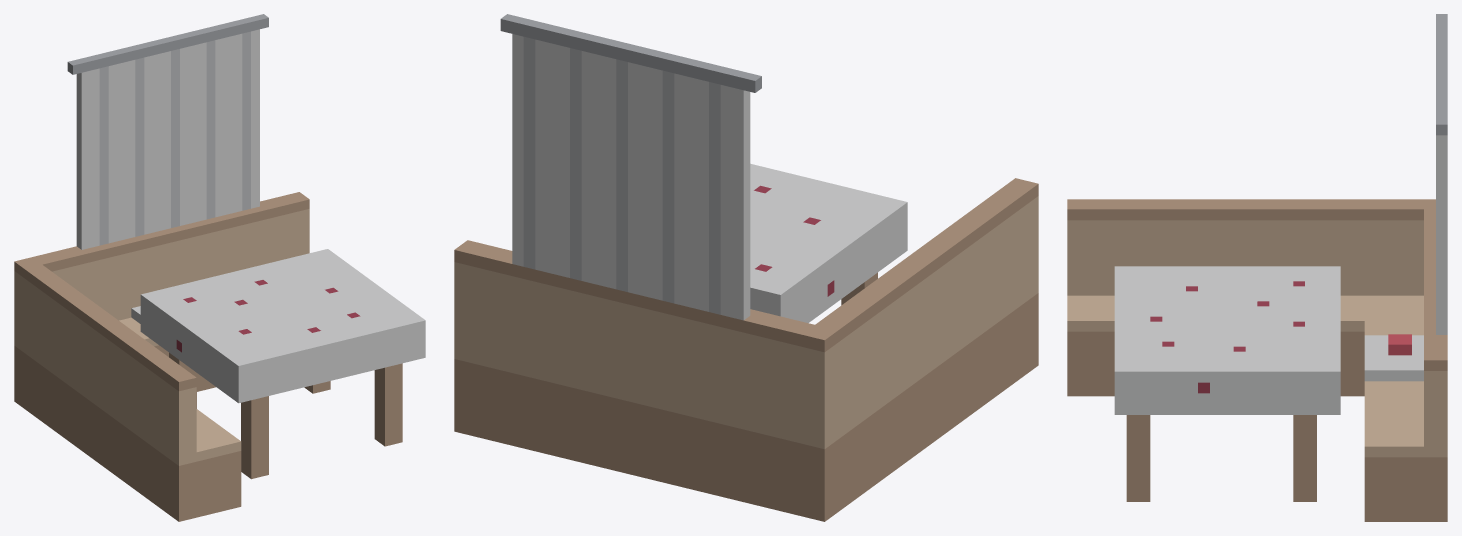
File: coin_repas.glb
3 renders of one model, left to right at view 1: azimuth 30°, elevation 25°; view 2: azimuth 150°, elevation 25°; view 3: azimuth 270°, elevation 25°, orthographic. The views are drawn at different scales.
Parts seen in each view (by area): view 1: main; view 2: main; view 3: main.
Boxes of the visible parts, x1=… form: main: x1=14, y1=14, x2=425, y2=521; main: x1=454, y1=14, x2=1038, y2=521; main: x1=1067, y1=14, x2=1447, y2=521.
Size of the model in its own units: 2 by 2.19 by 2.
